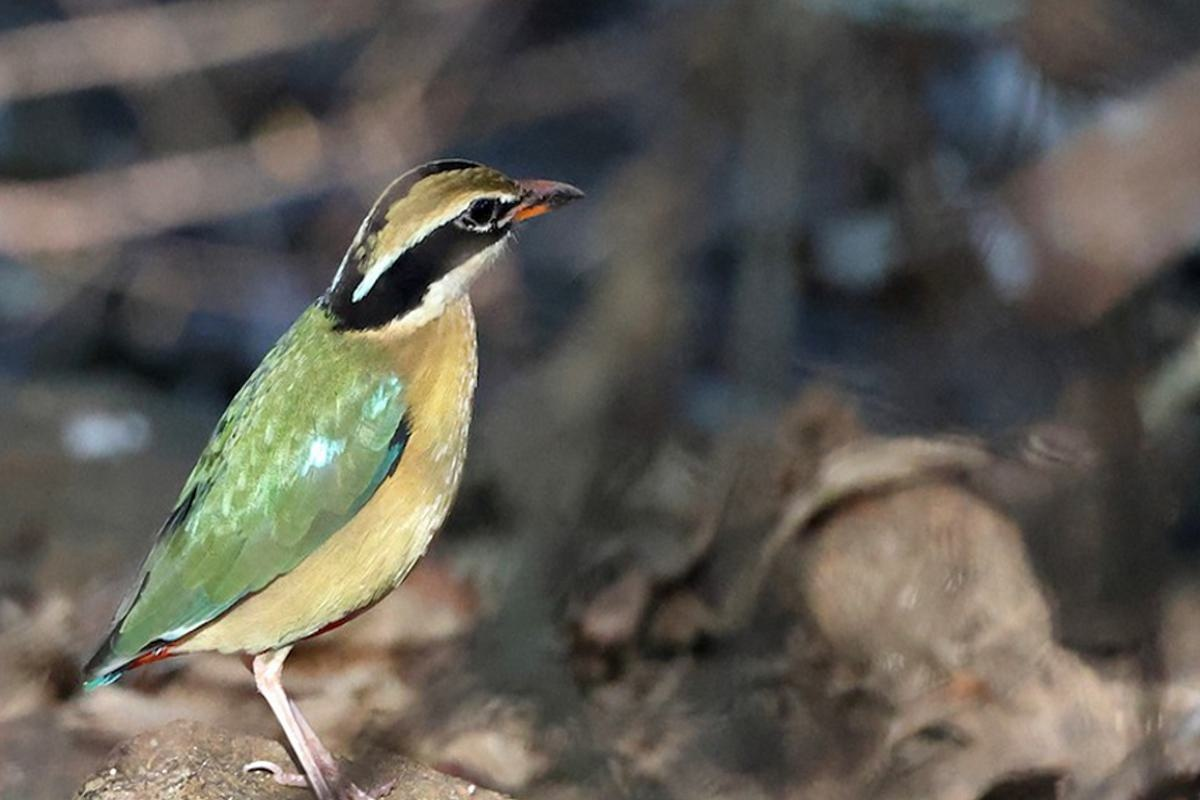pitta: (36, 147, 604, 740)
